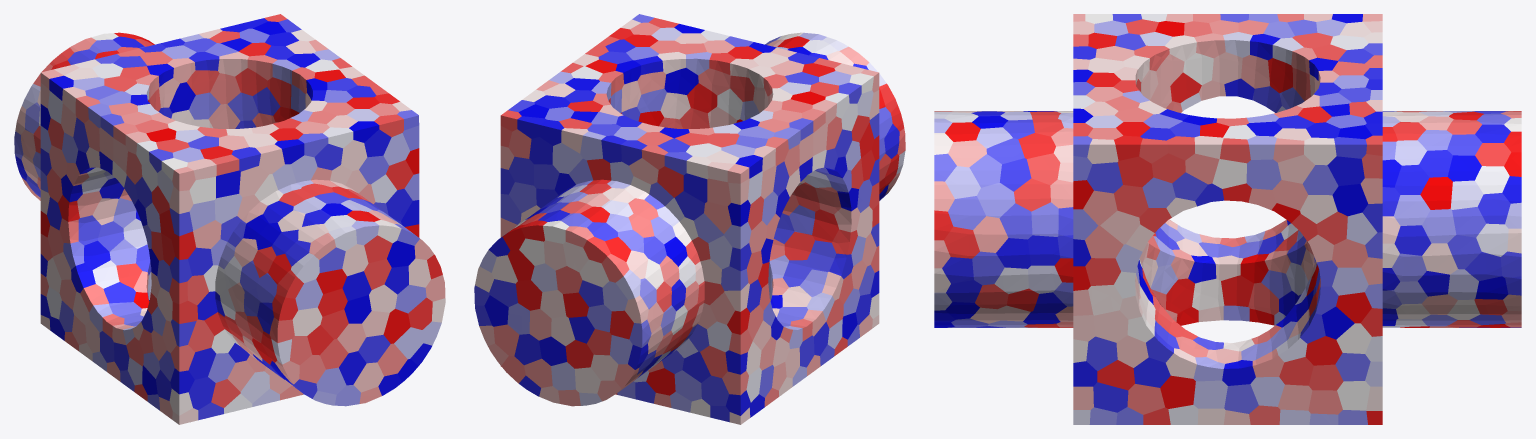
Rendered from Ours_1000_block_Iter10_RVD.obj.
The picture shows the model from 3 angles, left to right: view 1: azimuth 30°, elevation 25°; view 2: azimuth 150°, elevation 25°; view 3: azimuth 270°, elevation 25°; orthographic projection. The views are drawn at different scales.
Parts seen in each view (by area): view 1: 3D_Object; view 2: 3D_Object; view 3: 3D_Object.
Boxes of the visible parts, x1,y1,x2,y2 form: 3D_Object: (14, 14, 445, 424); 3D_Object: (474, 14, 905, 424); 3D_Object: (934, 14, 1521, 424).
Size of the model in its own units: 20 by 20 by 38.
Materials: 1 (1 with a texture image).
